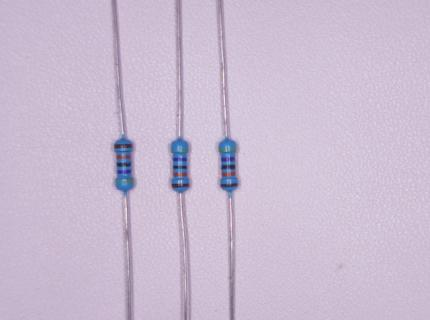Black band: (221, 164, 236, 169), (117, 162, 131, 167), (173, 165, 187, 169)
Brown band: (114, 143, 133, 149), (171, 183, 189, 188), (220, 183, 238, 188)
Orange band: (222, 171, 235, 177), (116, 154, 130, 159), (173, 172, 187, 177)
Violet band: (117, 169, 131, 174), (221, 157, 235, 162), (173, 158, 187, 162)
Yellow band: (115, 179, 133, 184), (218, 147, 236, 152), (171, 149, 188, 152)
